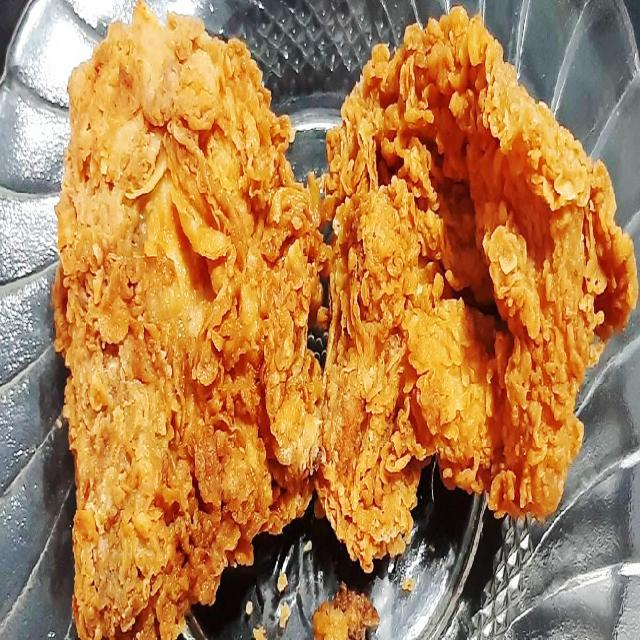fried_chicken: (319, 5, 636, 573), (58, 11, 322, 640)
